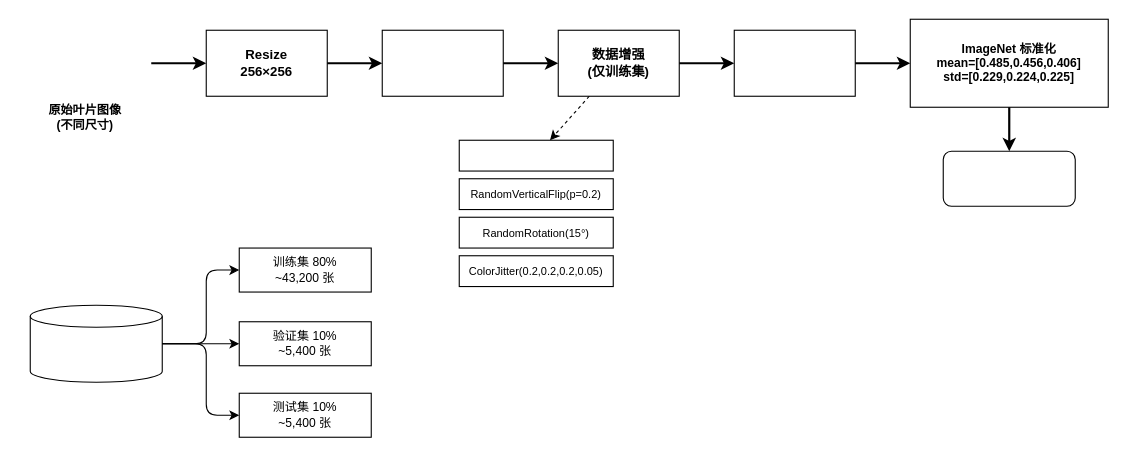
The diagram is 1128 pixels wide and 457 high, and some of its shapes have lost their labels. Here are the shapes that lost their labels. From the top down, the centre of each, then its label:
At (x=442, y=62): "RandomCrop 224×224".
At (x=794, y=62): "归一化 / 255.0".
At (x=535, y=155): "RandomHorizontalFlip".
At (x=1008, y=178): "输入张量 (N, 3, 224, 224)".
At (x=95, y=343): "PlantVillage 54,000 张图像".
